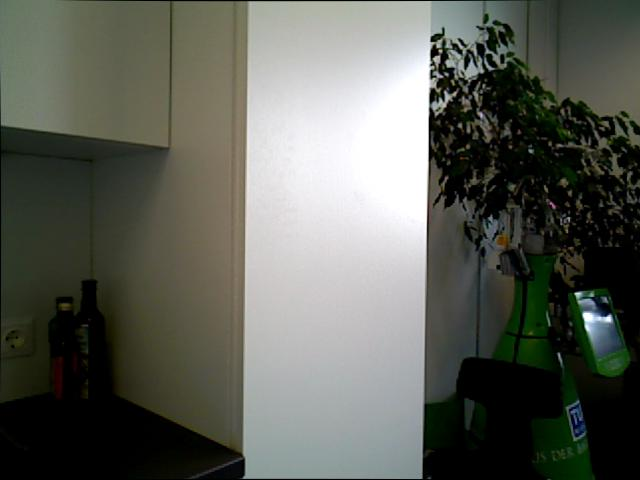bench: (74, 278, 107, 404), (47, 295, 77, 402)
carrot: (428, 11, 640, 296)
hot dog: (242, 0, 430, 479)
